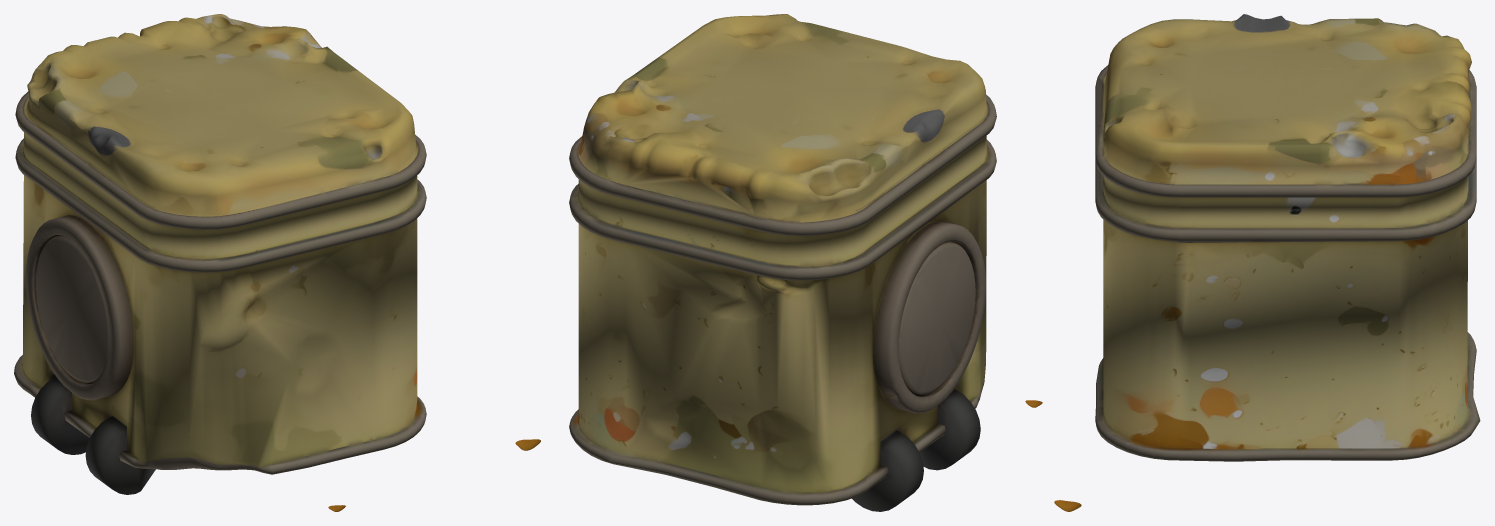
The model's file is cracker-rot.glb.
3 views of the same model, side by side, from view 1: azimuth 30°, elevation 25°; view 2: azimuth 150°, elevation 25°; view 3: azimuth 270°, elevation 25° (orthographic). The views are drawn at different scales.
Visible parts, largest first — view 1: tripo_node_325caa11-3323-4459-940e-1248983ab963; view 2: tripo_node_325caa11-3323-4459-940e-1248983ab963; view 3: tripo_node_325caa11-3323-4459-940e-1248983ab963.
Boxes of the visible parts, x1,y1,x2,y2 form: tripo_node_325caa11-3323-4459-940e-1248983ab963: (14,14,540,511); tripo_node_325caa11-3323-4459-940e-1248983ab963: (569,14,996,511); tripo_node_325caa11-3323-4459-940e-1248983ab963: (1025,14,1480,511).
Bounding box in the file's own units: 0.9448 × 0.8599 × 0.9995.
1 material, 1 textured.
